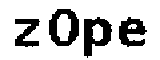0: (45, 6, 81, 49)
e: (116, 16, 146, 51)
p: (83, 14, 114, 60)
z: (10, 16, 42, 51)
